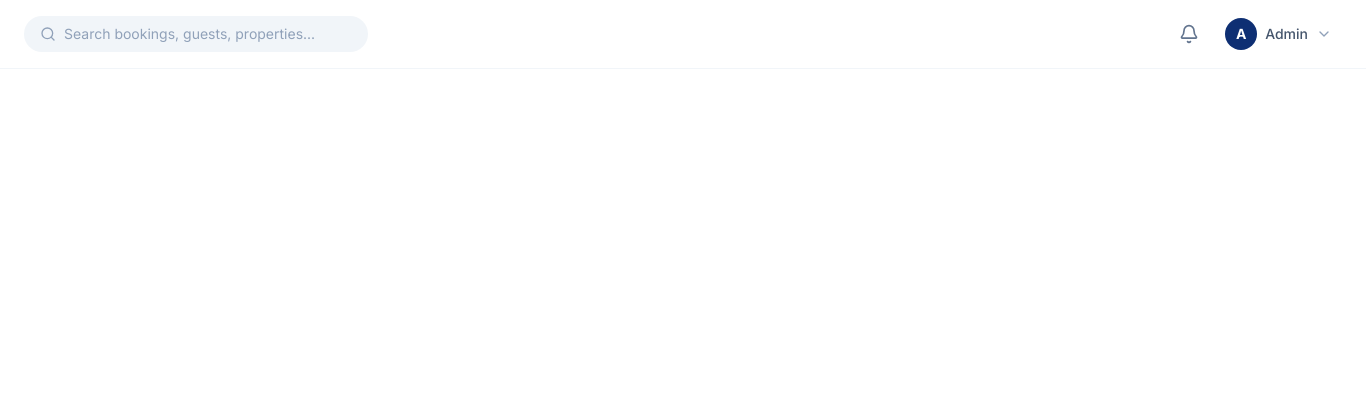
Test case: Topbar search (ZR-48 / ZR-72) › shows every kind of result instead of crashing the page
In the field with placeholder "Search bookings, guests, properties...": [208, 34] box [64, 24, 352, 44], type "room29"
Wait 400 ms
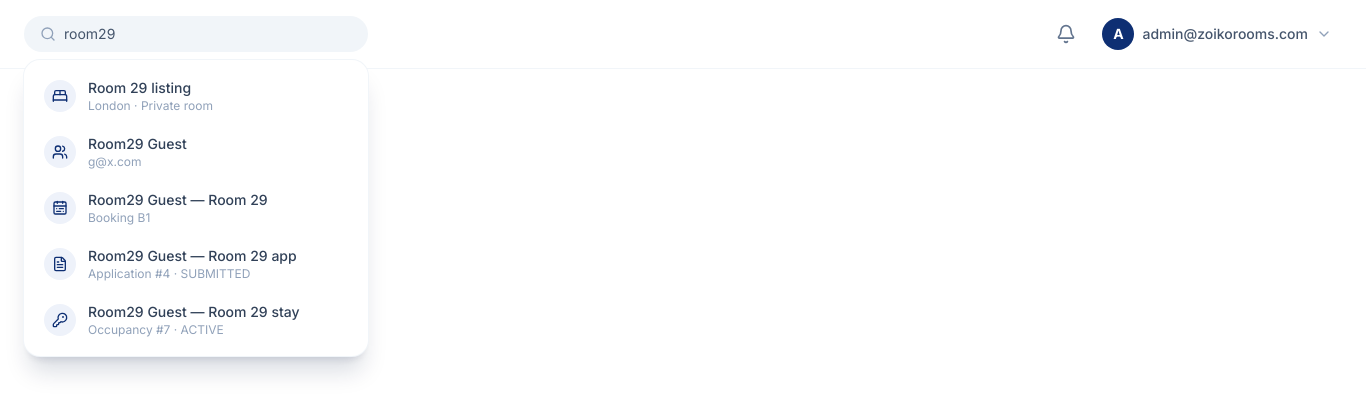
Result: the text "Room 29 listing" is shown at [88, 79, 191, 96]
Result: the text "Room29 Guest" is shown at [88, 135, 187, 152]
Result: the text "Room29 Guest — Room 29" is shown at [88, 191, 268, 208]
